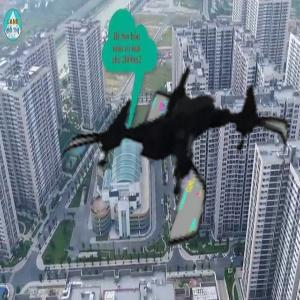drone: (70, 39, 288, 257)
